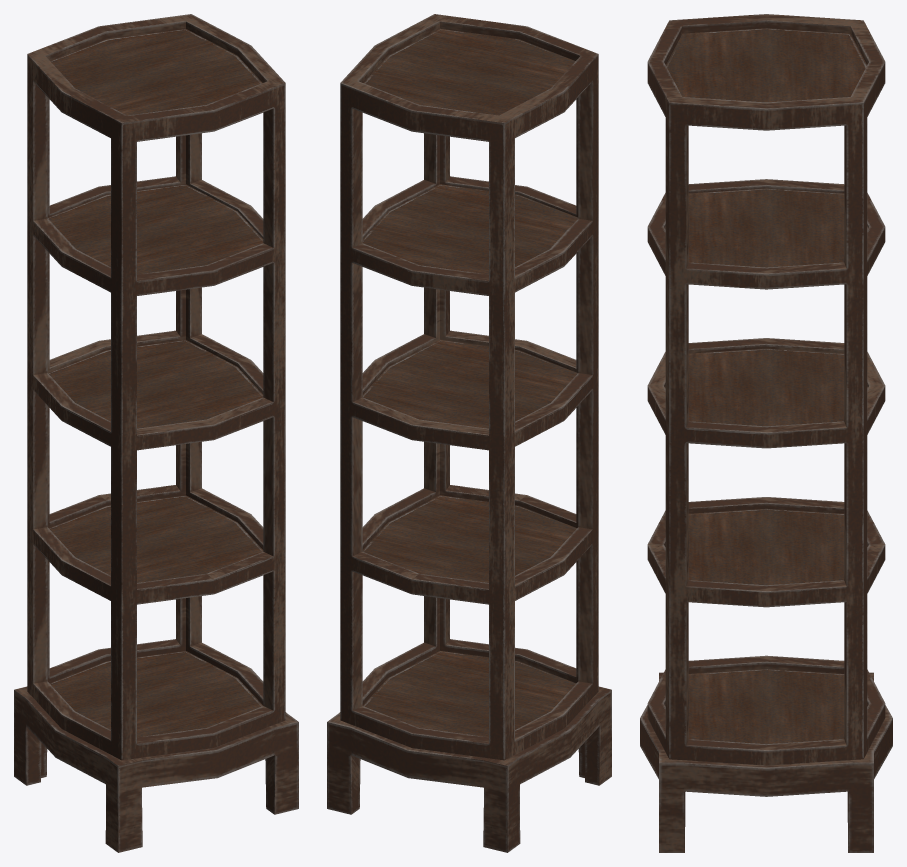
Rendered from library_loom_bookcase_01.fbx.
3 renders of one model, left to right at view 1: azimuth 30°, elevation 25°; view 2: azimuth 150°, elevation 25°; view 3: azimuth 270°, elevation 25°, orthographic. The views are drawn at different scales.
Parts seen in each view (by area): view 1: bookcase.1-1_lo; view 2: bookcase.1-1_lo; view 3: bookcase.1-1_lo.
Part boxes in pixels (x1,y1,x2,y2): bookcase.1-1_lo: (14,14,298,852); bookcase.1-1_lo: (327,14,611,852); bookcase.1-1_lo: (640,14,892,852).
Bounding box in the file's own units: 52.9 × 182 × 55.79.
